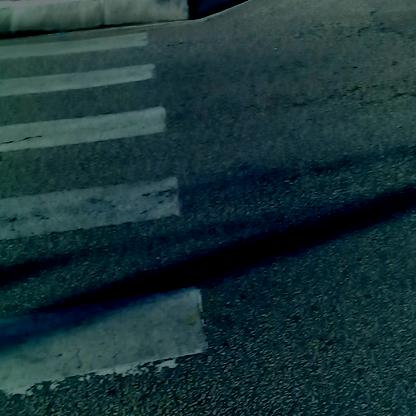crosswalk: (1, 24, 227, 373)
sidewalk: (2, 7, 211, 37)
